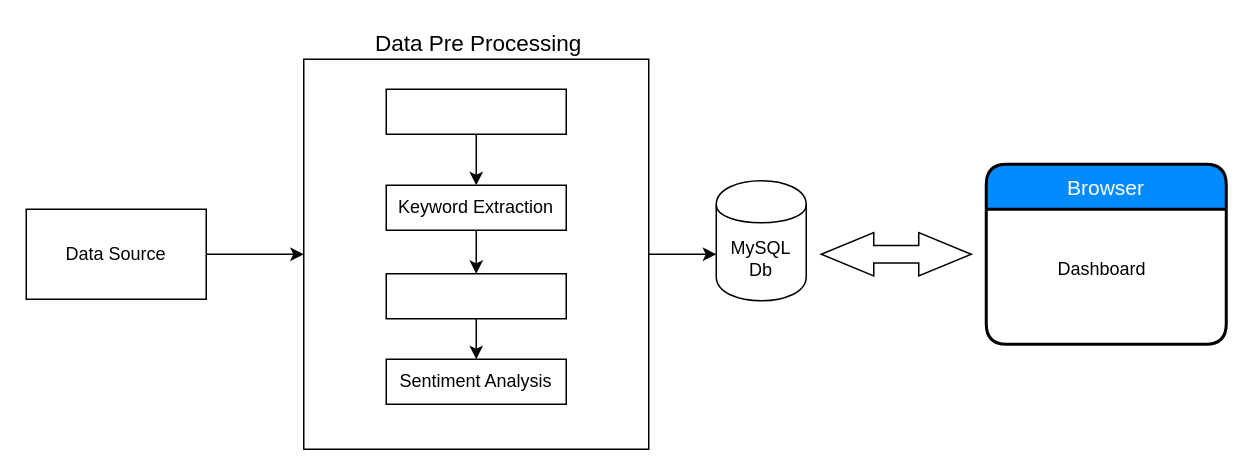
Image size: 1254x476. Some labels were removed from this diagram. Here are the shapes that lost their labels. From the top down, the centre of each, then its label:
At point (475, 111): "Data Slicing".
At point (475, 295): "Summarization".
